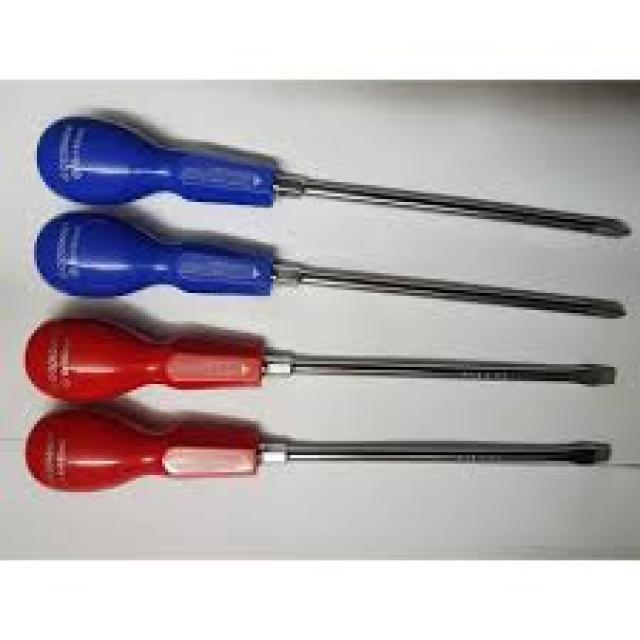screwdriver: (34, 114, 634, 239), (29, 206, 632, 323), (22, 402, 614, 497), (20, 313, 618, 404)
